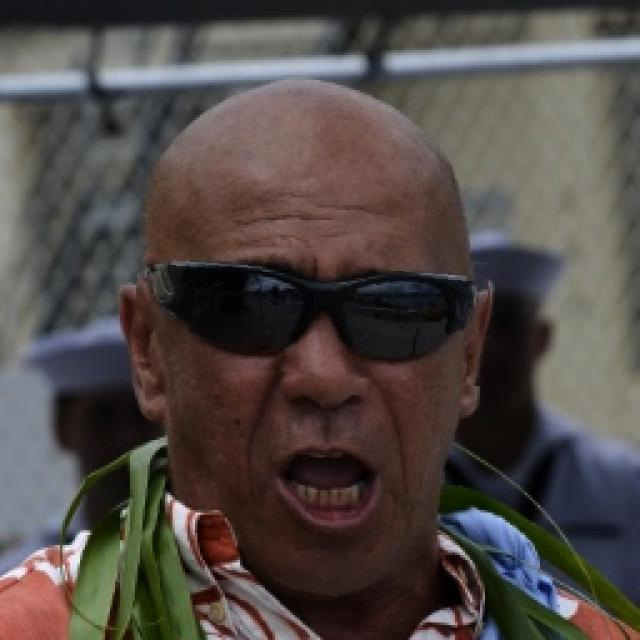glasses: (133, 244, 488, 380)
